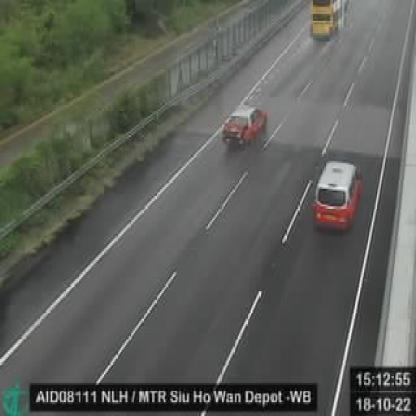Bus: (308, 0, 352, 40)
Car: (311, 160, 365, 234), (223, 106, 271, 154)
